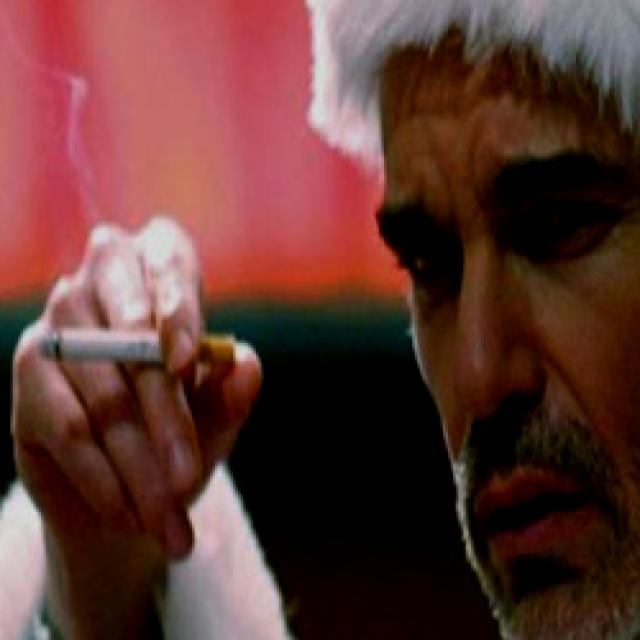Smooking: (29, 302, 234, 373)
